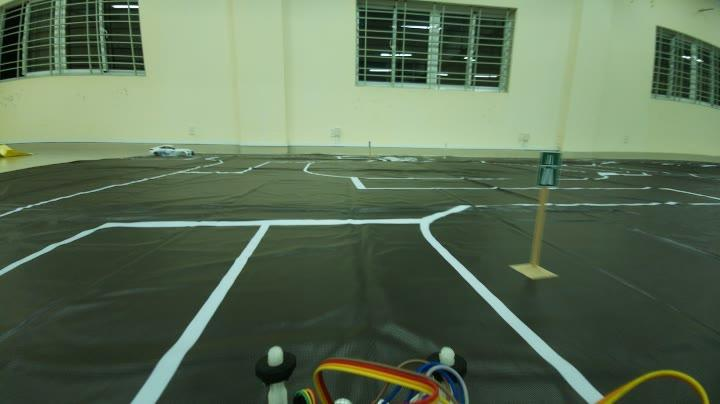highway_entry: (527, 143, 569, 191)
